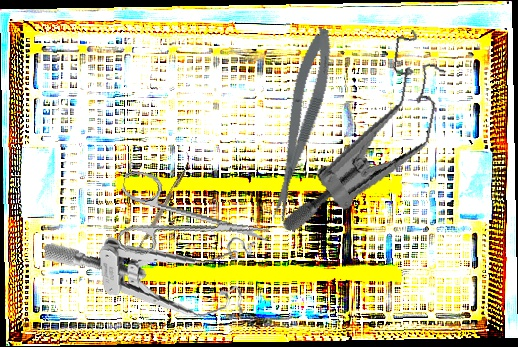Chopper: (121, 151, 196, 271)
Iris Scissors: (110, 169, 276, 278)
Micro Scissor: (259, 25, 341, 223)
Speculum: (279, 11, 456, 256), (43, 222, 263, 334)
